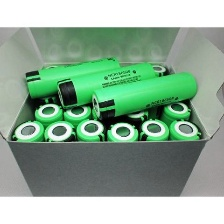battery: (90, 68, 198, 122), (52, 61, 159, 111), (22, 52, 123, 100), (156, 117, 205, 196), (9, 117, 58, 196), (31, 99, 69, 182), (41, 117, 81, 195), (153, 99, 193, 175), (102, 117, 139, 196), (136, 117, 170, 196), (62, 99, 94, 182), (75, 114, 107, 196)
book: (1, 26, 223, 198)
